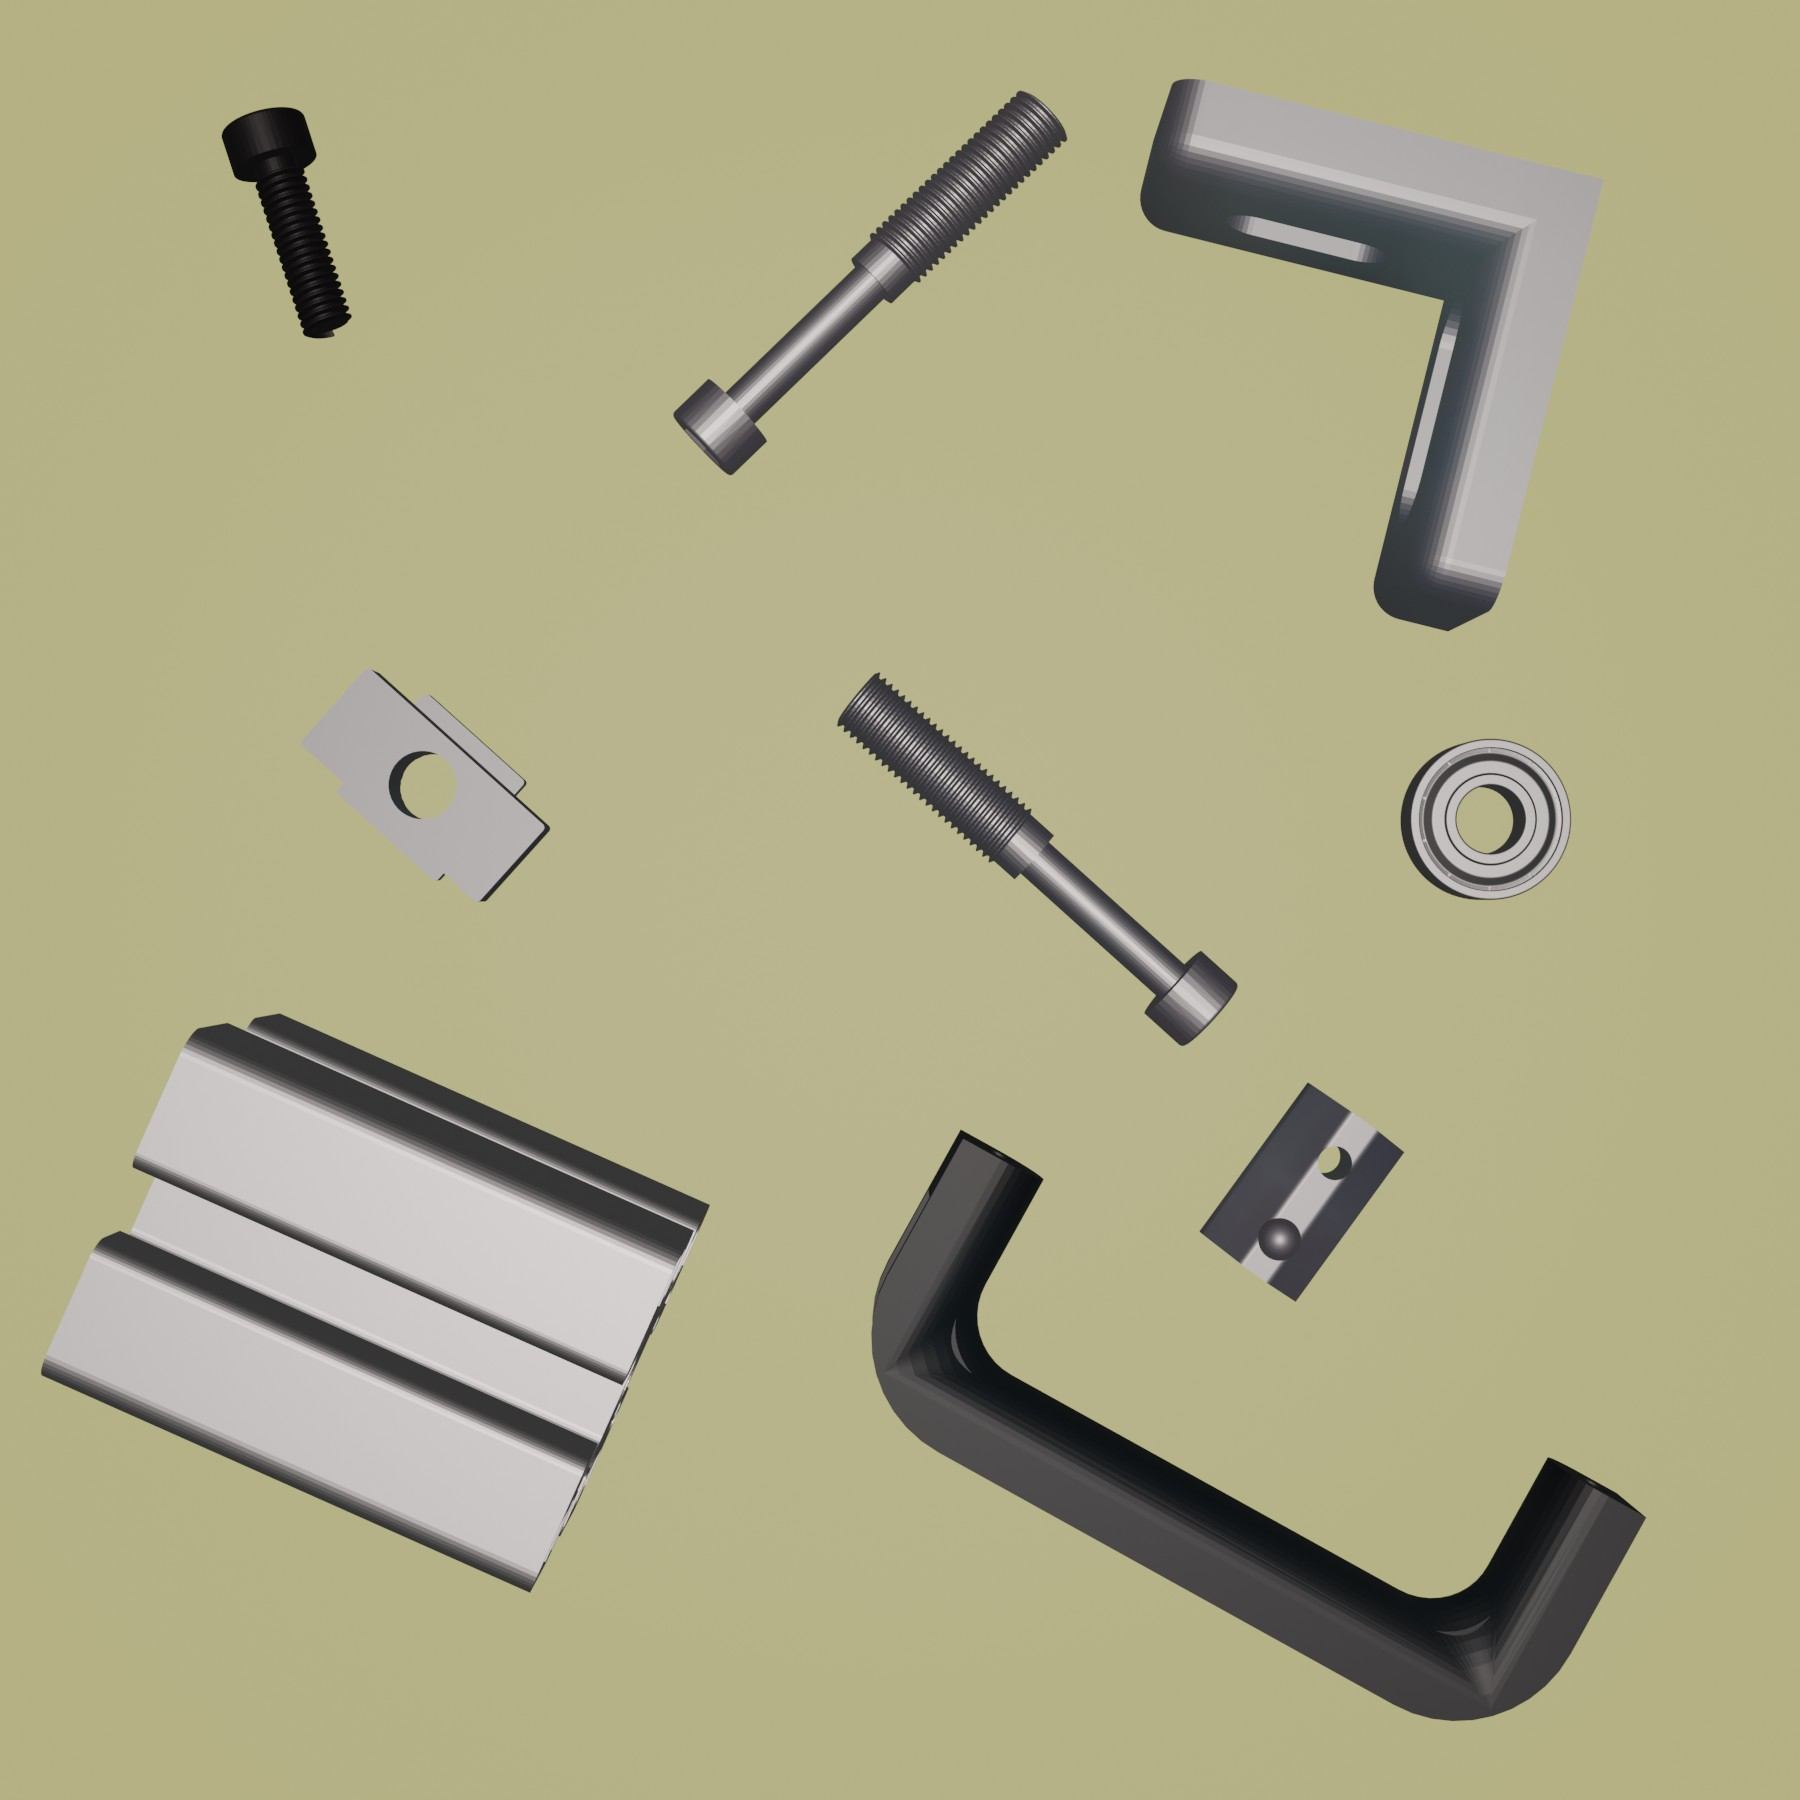Aluminium Extension: (35, 1009, 710, 1596)
Ball Bearing: (1398, 735, 1574, 903)
Multiwinkel: (1136, 74, 1605, 635)
Pull Handle: (867, 1127, 1647, 1723)
Shoulder Socket Head Cap Screw: (671, 86, 1066, 480), (832, 669, 1240, 1050)
Socket Head Cap Screw: (218, 102, 354, 341)
T Nut Square: (297, 663, 552, 903)
T Spring Nut: (1200, 1080, 1408, 1305)
